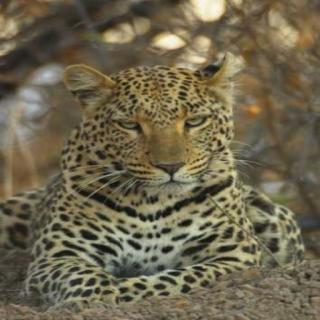Leopard: (42, 49, 250, 299)
